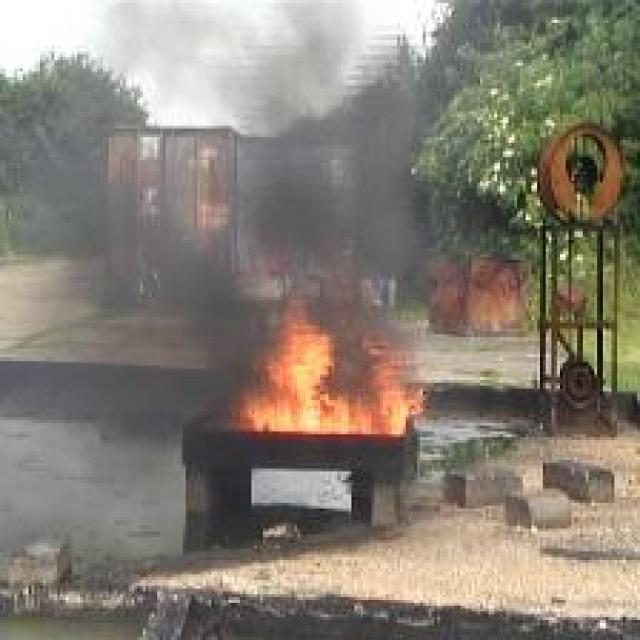Fire: (247, 301, 427, 436)
